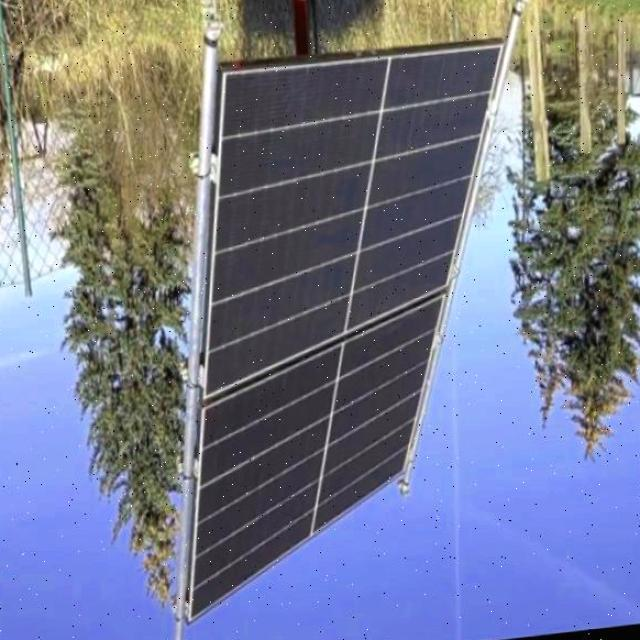Normal Solar Panel: (140, 40, 549, 620)
